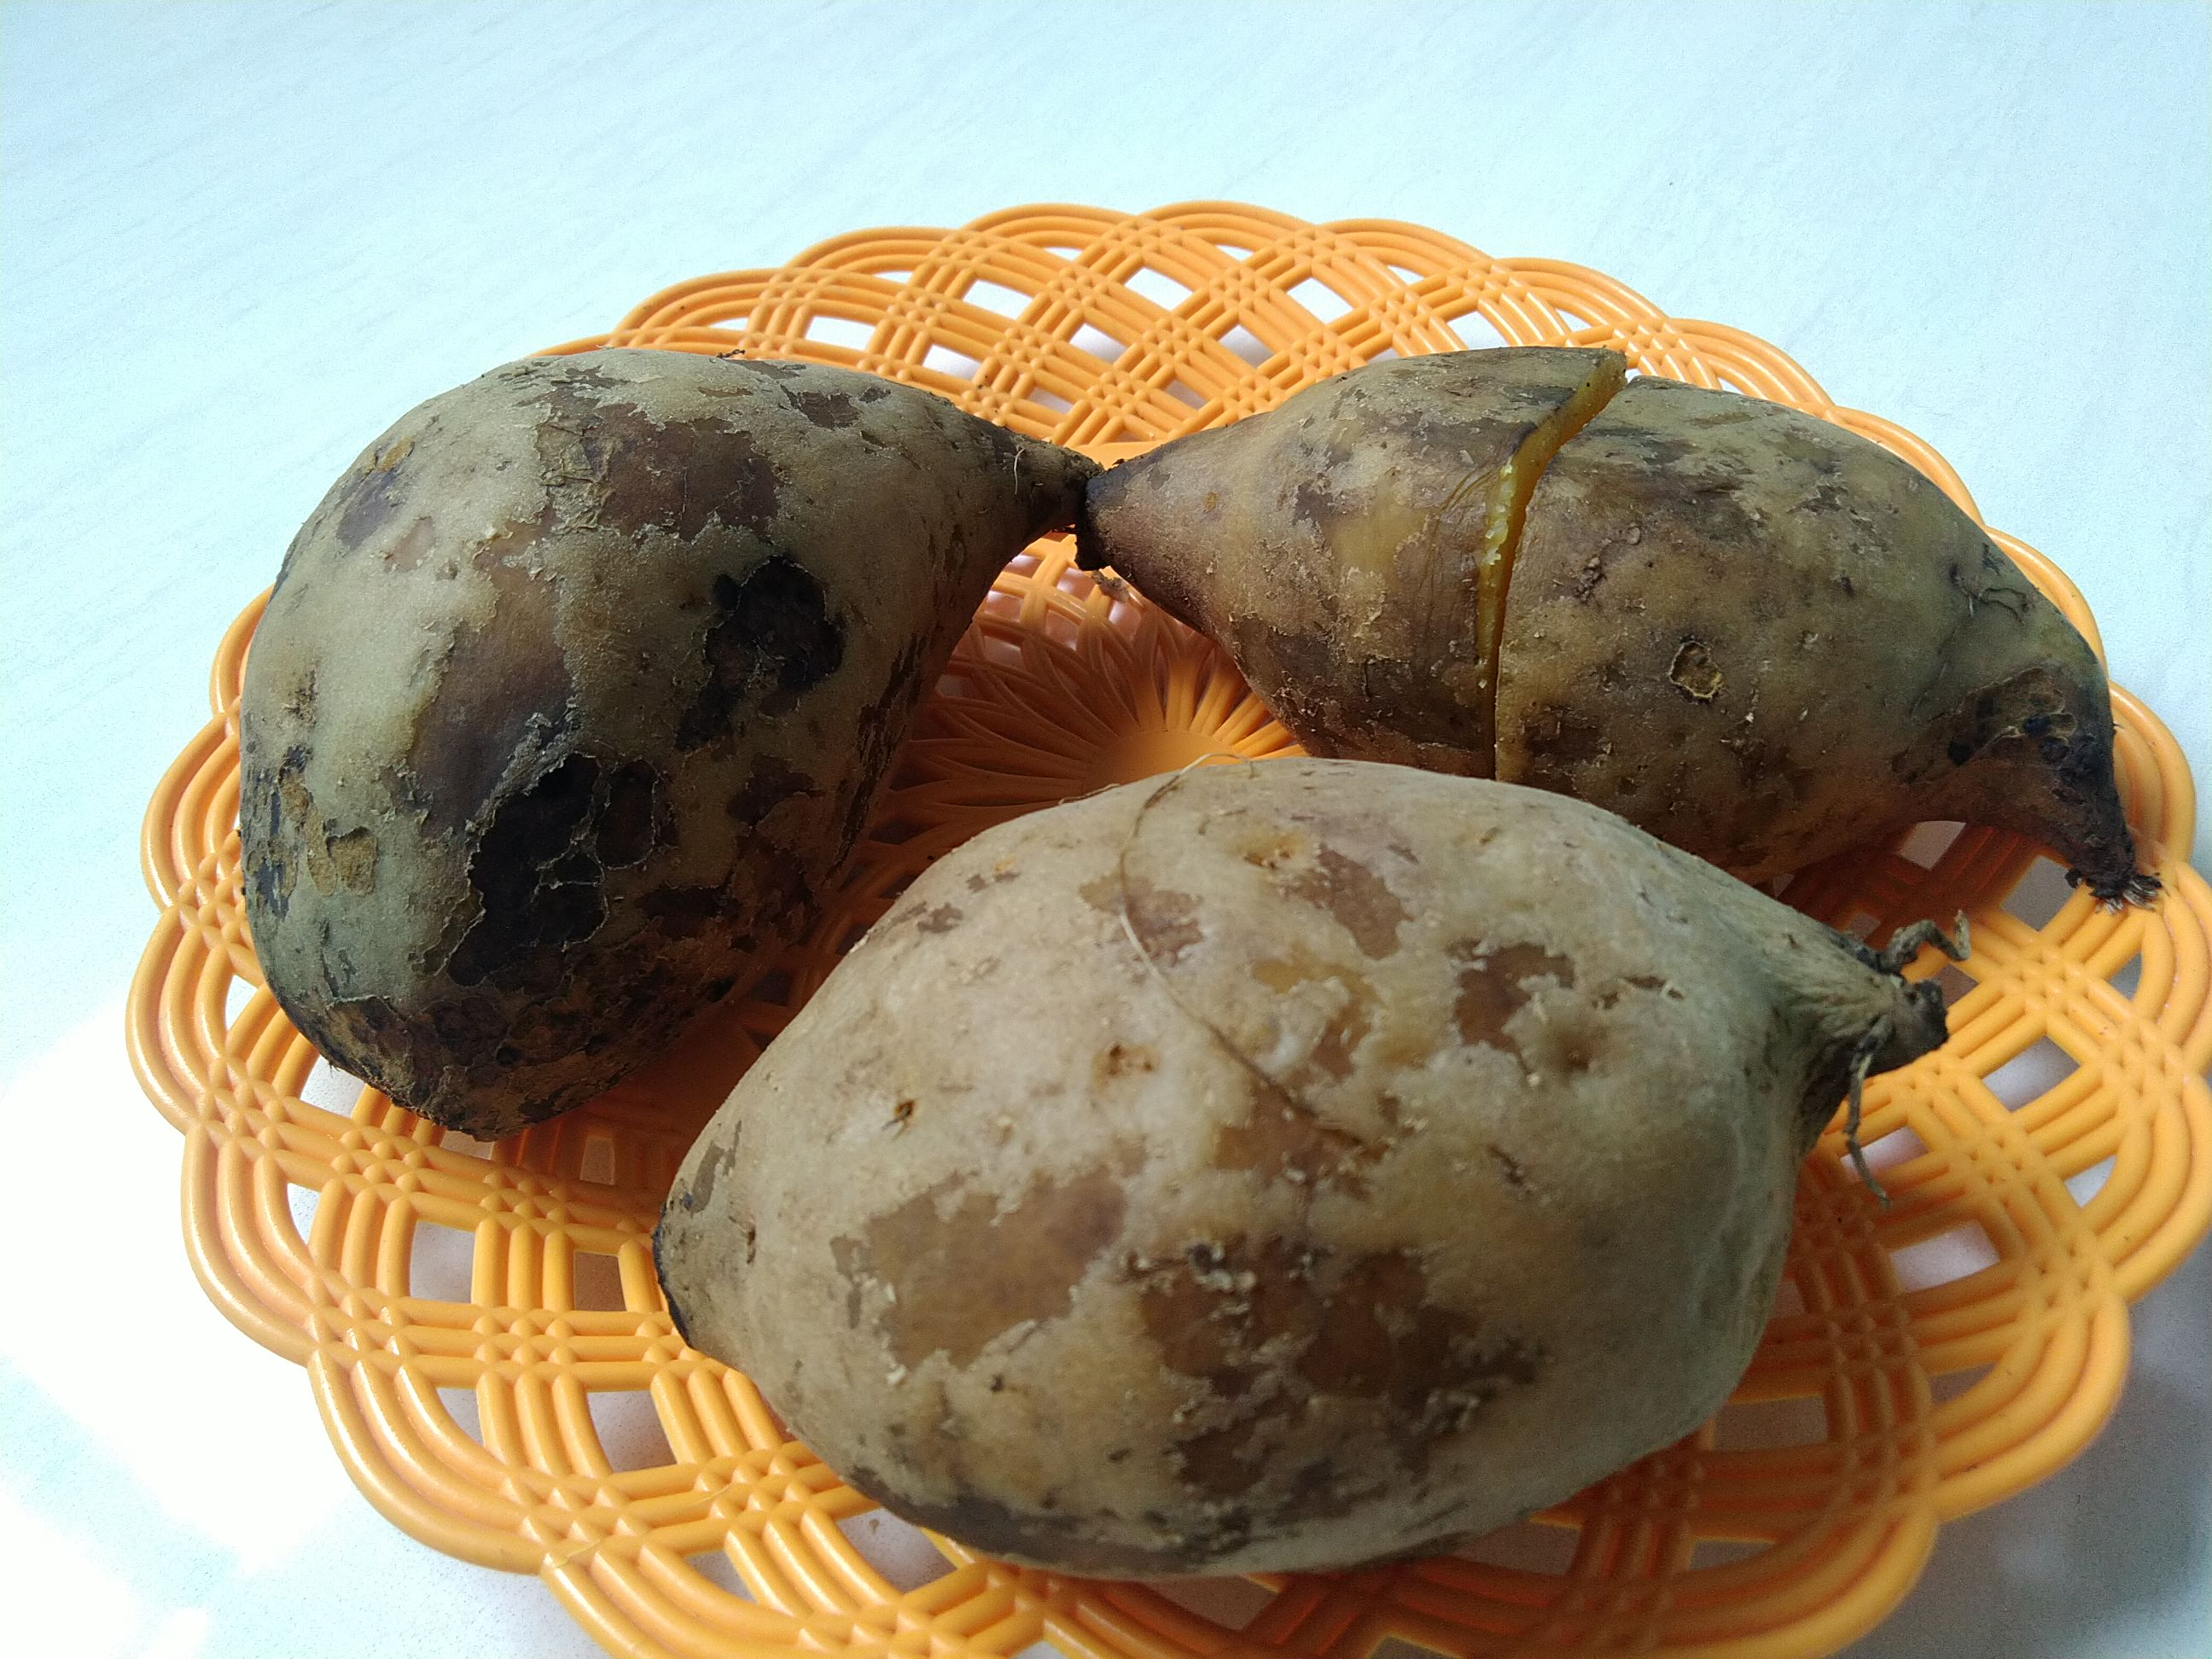ubi kuning: (223, 322, 2153, 1577), (643, 732, 1970, 1596), (244, 333, 1083, 1152), (1082, 312, 2170, 910)
